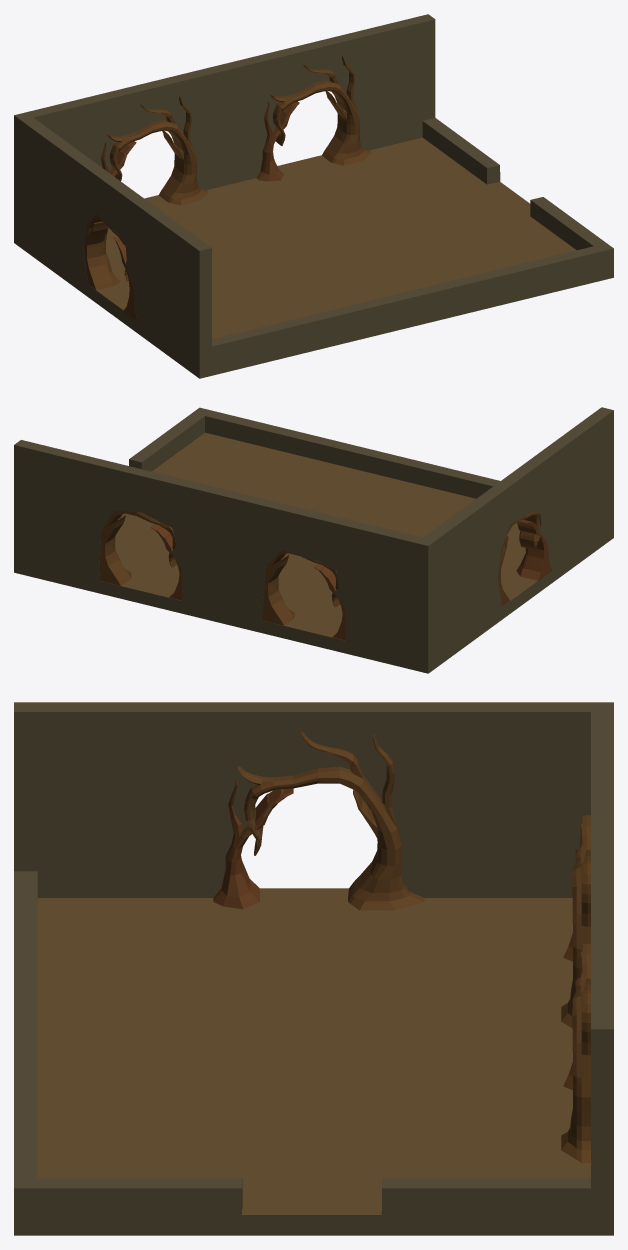
Rendered from salaMedianaTresPuertasNaturaleza.fbx.
The picture shows the model from 3 angles, top to bottom: view 1: azimuth 30°, elevation 25°; view 2: azimuth 150°, elevation 25°; view 3: azimuth 270°, elevation 25°; orthographic projection. The views are drawn at different scales.
Parts seen in each view (by area): view 1: Cubo.010, Cubo.013, Cubo.009, Cubo.012, Cubo.008, ARBOL.004; view 2: Cubo.010, Cubo.013, Cubo.009, Cubo.012, ARBOL.003, Cubo.008, ARBOL.005, ARBOL.004; view 3: Cubo.013, Cubo.010, Cubo.008, Cubo.009, ARBOL.003, Cubo.012.
Part boxes in pixels (x1,y1,x2,y2): Cubo.010: (14, 14, 613, 378); Cubo.013: (90, 137, 576, 339); Cubo.009: (269, 56, 371, 165); Cubo.012: (106, 96, 208, 205); Cubo.008: (83, 214, 128, 290); ARBOL.004: (256, 101, 299, 181); Cubo.010: (14, 407, 613, 673); Cubo.013: (99, 432, 537, 640); Cubo.009: (99, 510, 177, 585); Cubo.012: (261, 549, 340, 625); ARBOL.003: (516, 519, 552, 581); Cubo.008: (498, 512, 540, 606); ARBOL.005: (314, 564, 345, 640); ARBOL.004: (151, 524, 182, 600); Cubo.013: (37, 888, 590, 1214); Cubo.010: (14, 702, 613, 1235); Cubo.008: (238, 731, 424, 910); Cubo.009: (561, 944, 590, 1162); ARBOL.003: (213, 780, 293, 909); Cubo.012: (561, 815, 590, 1028).
Bounding box in the file's own units: 2060 × 607 × 1598.
